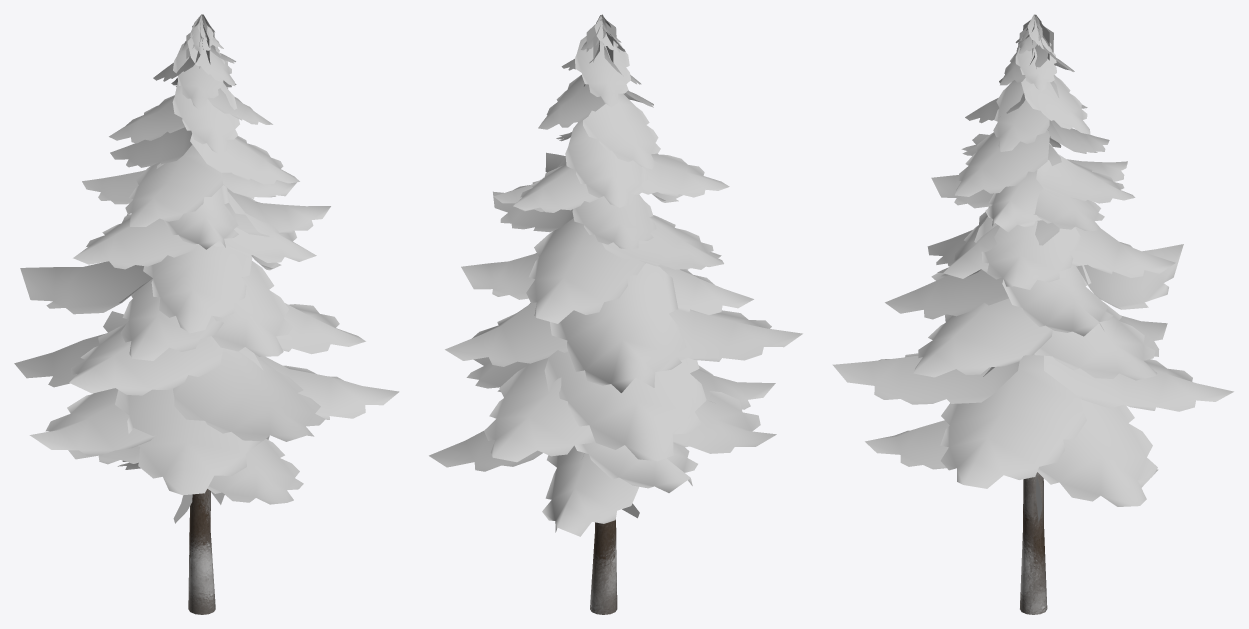
The model's file is PineTree_1.fbx.
3 views of the same model, side by side, from view 1: azimuth 30°, elevation 25°; view 2: azimuth 150°, elevation 25°; view 3: azimuth 270°, elevation 25° (orthographic).
Parts seen in each view (by area): view 1: TreeLeaves_1, TreeTrunk_1; view 2: TreeLeaves_1, TreeTrunk_1; view 3: TreeLeaves_1, TreeTrunk_1.
Part boxes in pixels (box(x1,y1,x2,y2)): TreeLeaves_1: box(14, 14, 399, 523); TreeTrunk_1: box(188, 489, 215, 614); TreeLeaves_1: box(429, 14, 802, 536); TreeTrunk_1: box(590, 519, 617, 614); TreeLeaves_1: box(832, 14, 1233, 522); TreeTrunk_1: box(1020, 472, 1047, 614).
Size of the model in its own units: 403 by 680 by 417.
